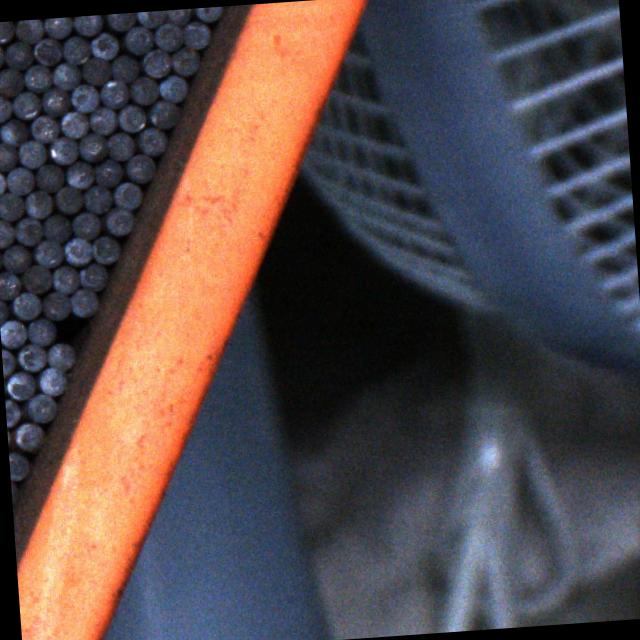tool: (24, 392, 56, 423), (1, 242, 32, 272), (136, 124, 167, 154), (3, 368, 34, 398), (61, 34, 91, 64), (140, 47, 170, 77), (129, 74, 159, 104), (170, 46, 200, 76), (124, 24, 154, 54), (16, 342, 46, 372), (42, 212, 72, 242), (124, 152, 154, 182), (36, 366, 66, 396), (62, 236, 92, 266), (152, 20, 182, 50), (12, 422, 42, 452), (20, 264, 50, 294), (79, 55, 109, 84), (69, 85, 99, 114), (12, 292, 42, 321), (23, 64, 52, 94), (82, 184, 111, 214), (47, 134, 76, 164), (70, 288, 99, 318), (13, 216, 42, 246), (46, 340, 76, 369), (86, 106, 115, 136), (16, 138, 46, 167), (3, 40, 32, 70), (27, 316, 56, 346), (92, 158, 121, 188), (110, 53, 140, 82), (79, 262, 108, 292), (102, 207, 132, 236), (147, 100, 178, 128), (41, 291, 70, 320), (5, 167, 34, 196), (40, 88, 69, 117), (157, 74, 186, 103), (53, 185, 82, 214), (52, 61, 81, 90), (90, 234, 119, 263), (72, 210, 101, 239), (89, 31, 118, 60), (51, 265, 80, 294), (98, 78, 126, 108), (106, 130, 134, 160), (22, 188, 50, 218), (32, 238, 62, 266), (78, 131, 106, 161), (12, 90, 40, 119), (116, 104, 144, 133), (36, 164, 64, 193), (28, 115, 56, 144), (114, 181, 142, 210), (0, 116, 28, 145), (182, 19, 210, 48), (33, 38, 61, 66), (66, 160, 94, 188), (58, 111, 86, 139), (0, 318, 25, 348), (16, 19, 44, 43), (0, 190, 23, 219), (8, 450, 30, 480), (42, 16, 72, 38), (0, 67, 22, 96), (72, 15, 102, 35), (0, 269, 20, 298), (105, 12, 135, 30), (0, 141, 16, 171), (192, 6, 222, 22), (136, 10, 164, 27), (5, 399, 21, 427), (165, 8, 192, 24), (1, 346, 14, 376), (0, 218, 12, 247), (0, 20, 14, 42), (0, 93, 10, 122), (10, 478, 18, 506), (0, 297, 8, 325), (0, 169, 4, 197)
